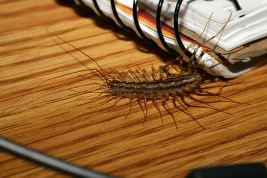centipede: (68, 47, 247, 124)
